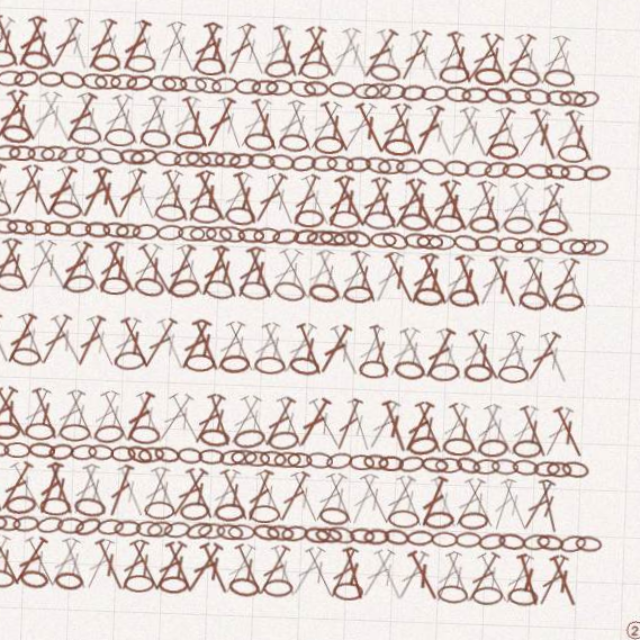chain: (497, 76, 527, 97), (295, 274, 325, 295), (264, 406, 294, 427), (125, 489, 152, 511), (280, 77, 309, 97), (32, 209, 61, 229), (171, 275, 200, 295), (202, 275, 231, 295), (233, 275, 262, 295), (140, 407, 169, 427), (295, 407, 324, 427), (419, 407, 448, 427), (513, 275, 541, 295), (109, 275, 138, 294), (326, 275, 355, 294), (311, 341, 340, 360), (125, 473, 154, 492), (389, 226, 416, 246), (224, 490, 251, 510), (405, 341, 433, 360), (64, 473, 92, 492), (219, 473, 247, 492), (265, 539, 293, 558), (156, 342, 185, 360), (99, 160, 125, 180), (169, 424, 195, 444), (79, 539, 106, 558), (374, 78, 402, 96), (48, 144, 76, 162), (172, 144, 200, 162), (95, 210, 123, 228), (250, 210, 278, 228), (405, 210, 433, 228), (467, 210, 495, 228), (48, 276, 76, 294), (265, 276, 293, 294), (544, 276, 572, 294), (64, 342, 92, 360), (436, 342, 464, 360), (234, 408, 262, 426), (482, 408, 510, 426), (343, 474, 371, 492), (436, 474, 464, 492), (48, 540, 76, 558), (369, 94, 395, 113), (163, 160, 189, 179), (372, 160, 398, 179), (421, 160, 447, 179), (357, 226, 383, 245), (347, 424, 373, 443), (92, 490, 118, 509), (351, 490, 377, 509), (557, 490, 583, 509), (64, 78, 91, 96), (110, 540, 137, 558), (529, 78, 557, 95), (110, 144, 138, 161), (188, 210, 216, 227), (219, 210, 247, 227), (374, 210, 402, 227), (420, 276, 448, 293), (172, 408, 200, 425), (250, 474, 278, 491), (467, 474, 495, 491), (513, 540, 541, 557), (57, 94, 82, 113), (98, 94, 123, 113), (478, 160, 503, 179), (462, 424, 487, 443), (157, 95, 183, 113), (218, 95, 244, 113), (302, 95, 328, 113), (476, 95, 502, 113), (134, 161, 160, 179), (202, 161, 228, 179), (292, 227, 318, 245), (453, 227, 479, 245), (252, 425, 278, 443), (411, 425, 437, 443), (205, 491, 231, 509), (485, 491, 511, 509), (436, 78, 463, 95), (265, 144, 292, 161), (296, 144, 323, 161), (498, 210, 525, 227), (250, 342, 277, 359), (467, 342, 494, 359), (513, 408, 540, 425), (296, 540, 323, 557), (451, 540, 478, 557), (482, 540, 509, 557), (555, 95, 580, 113), (251, 161, 276, 179), (306, 161, 331, 179), (100, 425, 125, 443), (190, 491, 215, 509), (203, 145, 231, 161), (281, 343, 309, 359), (79, 409, 107, 425), (110, 409, 138, 425), (451, 409, 479, 425), (95, 475, 123, 491), (281, 475, 309, 491), (405, 475, 433, 491), (233, 95, 259, 112), (461, 161, 487, 178), (452, 276, 478, 293), (284, 491, 310, 508), (33, 79, 60, 95), (157, 79, 184, 95), (219, 79, 246, 95), (312, 79, 339, 95), (467, 79, 494, 95), (141, 145, 168, 161), (327, 145, 354, 161), (389, 145, 416, 161), (482, 145, 509, 161), (544, 145, 571, 161), (312, 211, 339, 227), (343, 211, 370, 227), (436, 211, 463, 227), (529, 211, 556, 227), (141, 277, 168, 293), (358, 277, 385, 293), (219, 343, 246, 359), (374, 343, 401, 359), (498, 343, 525, 359), (48, 409, 75, 425), (188, 475, 215, 491), (172, 541, 199, 557), (203, 541, 230, 557), (358, 541, 385, 557), (512, 95, 537, 112), (84, 161, 109, 178), (400, 161, 425, 178), (567, 161, 592, 178), (245, 227, 270, 244), (346, 227, 371, 244), (557, 227, 582, 244), (568, 227, 593, 244), (194, 425, 219, 442), (557, 425, 582, 442), (71, 491, 96, 508), (146, 491, 171, 508), (310, 491, 335, 508), (503, 491, 528, 508), (525, 491, 550, 508), (537, 491, 562, 508), (127, 79, 153, 95), (311, 227, 335, 244), (401, 491, 425, 508), (42, 96, 67, 112), (269, 96, 294, 112), (420, 96, 445, 112), (441, 96, 466, 112), (456, 96, 481, 112), (543, 96, 568, 112), (42, 162, 67, 178), (115, 162, 140, 178), (384, 162, 409, 178), (56, 228, 81, 244), (168, 228, 193, 244), (190, 228, 215, 244), (219, 228, 244, 244), (233, 228, 258, 244), (323, 228, 348, 244), (334, 228, 359, 244), (508, 228, 533, 244), (42, 426, 67, 442), (120, 426, 145, 442), (180, 426, 205, 442), (301, 426, 326, 442), (432, 426, 457, 442), (478, 426, 503, 442), (532, 426, 557, 442), (161, 492, 186, 508), (236, 492, 261, 508), (252, 492, 277, 508), (340, 492, 365, 508), (118, 96, 142, 112), (402, 96, 426, 112), (531, 96, 555, 112), (154, 162, 178, 178), (213, 162, 237, 178), (287, 162, 311, 178), (153, 228, 177, 244), (330, 492, 354, 508), (282, 96, 307, 111), (383, 96, 408, 111), (527, 228, 552, 243), (288, 426, 313, 441), (513, 426, 538, 441), (42, 492, 67, 507), (297, 492, 322, 507), (144, 96, 168, 111), (179, 96, 203, 111), (206, 96, 230, 111), (338, 96, 362, 111), (495, 96, 519, 111), (239, 162, 263, 177), (269, 162, 293, 177), (325, 162, 349, 177), (339, 162, 363, 177), (443, 162, 467, 177), (43, 228, 67, 243), (142, 228, 166, 243), (276, 228, 300, 243), (410, 228, 434, 243), (473, 228, 497, 243), (548, 228, 572, 243), (83, 426, 107, 441), (215, 426, 239, 441), (263, 426, 287, 441), (330, 426, 354, 441), (495, 426, 519, 441), (55, 492, 79, 507), (111, 492, 135, 507), (383, 492, 407, 507), (422, 492, 446, 507), (465, 492, 489, 507), (572, 492, 596, 507), (80, 96, 103, 111), (190, 96, 213, 111), (255, 96, 278, 111), (316, 96, 339, 111), (226, 162, 249, 177), (356, 162, 379, 177), (533, 162, 556, 177), (109, 228, 132, 243), (126, 228, 149, 243), (136, 426, 159, 441), (381, 426, 404, 441), (371, 492, 394, 507), (130, 97, 154, 111), (360, 97, 384, 111), (56, 163, 80, 177), (73, 163, 97, 177), (186, 163, 210, 177), (516, 163, 540, 177), (547, 163, 571, 177), (90, 229, 114, 243), (209, 229, 233, 243), (262, 229, 286, 243), (380, 229, 404, 243), (421, 229, 445, 243), (432, 229, 456, 243), (493, 229, 517, 243), (61, 427, 85, 441), (234, 427, 258, 441), (445, 427, 469, 441), (181, 493, 205, 507), (263, 493, 287, 507), (444, 493, 468, 507), (495, 163, 518, 177), (73, 229, 96, 243), (156, 427, 179, 441), (275, 427, 298, 441), (313, 427, 336, 441), (368, 427, 391, 441), (394, 427, 417, 441), (544, 427, 567, 441)
double: (171, 244, 210, 293), (208, 442, 247, 491), (22, 47, 61, 95), (456, 47, 495, 95), (488, 178, 526, 227), (529, 178, 567, 227), (79, 244, 117, 293), (286, 244, 324, 293), (95, 310, 133, 359), (48, 376, 86, 425), (193, 376, 231, 425), (327, 376, 365, 425), (64, 442, 102, 491), (69, 508, 107, 557), (224, 508, 262, 557), (364, 46, 401, 95), (79, 112, 116, 161), (255, 112, 292, 161), (317, 112, 354, 161), (348, 112, 385, 161), (503, 112, 540, 161), (219, 178, 256, 227), (343, 178, 380, 227), (457, 178, 494, 227), (141, 244, 178, 293), (296, 244, 333, 293), (178, 310, 215, 359), (467, 310, 504, 359), (519, 310, 556, 359), (203, 376, 240, 425), (23, 442, 60, 491), (79, 508, 116, 557), (317, 508, 354, 557), (379, 508, 416, 557), (420, 508, 457, 557), (482, 508, 519, 557), (65, 178, 101, 228), (96, 178, 132, 228), (313, 178, 349, 228), (101, 244, 137, 294), (163, 244, 199, 294), (256, 508, 292, 558), (328, 508, 364, 558), (313, 46, 349, 95), (499, 46, 535, 95), (39, 112, 75, 161), (49, 112, 85, 161), (132, 112, 168, 161), (328, 112, 364, 161), (359, 112, 395, 161), (380, 112, 416, 161), (179, 178, 215, 227), (241, 178, 277, 227), (272, 178, 308, 227), (406, 178, 442, 227), (499, 178, 535, 227), (111, 244, 147, 293), (390, 244, 426, 293), (514, 244, 550, 293), (303, 310, 339, 359), (334, 310, 370, 359), (39, 376, 75, 425), (256, 376, 292, 425), (266, 376, 302, 425), (318, 376, 354, 425), (380, 376, 416, 425), (452, 376, 488, 425), (483, 376, 519, 425), (545, 376, 581, 425), (55, 442, 91, 491), (334, 442, 370, 491), (375, 442, 411, 491), (396, 442, 432, 491), (458, 442, 494, 491), (468, 442, 504, 491), (520, 442, 556, 491), (49, 508, 85, 557), (173, 508, 209, 557), (194, 508, 230, 557), (473, 508, 509, 557), (86, 46, 121, 96), (189, 46, 224, 96), (210, 46, 245, 96), (406, 46, 441, 96), (489, 46, 524, 96), (520, 46, 555, 96), (70, 112, 105, 162), (101, 112, 136, 162), (194, 112, 229, 162), (452, 112, 487, 162), (473, 112, 508, 162), (535, 112, 570, 162), (55, 178, 90, 228), (86, 178, 121, 228), (365, 178, 400, 228), (396, 178, 431, 228), (437, 178, 472, 228), (39, 244, 74, 294), (70, 244, 105, 294), (349, 244, 384, 294), (442, 244, 477, 294), (483, 244, 518, 294), (545, 244, 580, 294), (34, 310, 69, 360), (86, 310, 121, 360), (127, 310, 162, 360), (158, 310, 193, 360), (210, 310, 245, 360), (241, 310, 276, 360), (251, 310, 286, 360), (344, 310, 379, 360), (396, 310, 431, 360), (406, 310, 441, 360), (427, 310, 462, 360), (489, 310, 524, 360), (101, 376, 136, 426), (142, 376, 177, 426), (173, 376, 208, 426), (225, 376, 260, 426), (287, 376, 322, 426), (189, 442, 224, 492), (220, 442, 255, 492), (251, 442, 286, 492), (282, 442, 317, 492), (303, 442, 338, 492), (313, 442, 348, 492), (101, 508, 136, 558), (142, 508, 177, 558), (204, 508, 239, 558), (235, 508, 270, 558), (266, 508, 301, 558), (287, 508, 322, 558), (390, 508, 425, 558), (411, 508, 446, 558), (66, 46, 100, 96), (118, 46, 152, 96), (252, 46, 286, 96), (273, 46, 307, 96), (304, 46, 338, 96), (335, 46, 369, 96), (345, 46, 379, 96), (397, 46, 431, 96), (469, 46, 503, 96), (112, 112, 146, 162), (143, 112, 177, 162), (164, 112, 198, 162), (205, 112, 239, 162), (226, 112, 260, 162), (288, 112, 322, 162), (391, 112, 425, 162), (422, 112, 456, 162), (443, 112, 477, 162), (546, 112, 580, 162), (128, 178, 162, 228), (149, 178, 183, 228), (159, 178, 193, 228), (190, 178, 224, 228), (283, 178, 317, 228), (428, 178, 462, 228), (50, 244, 84, 294), (195, 244, 229, 294), (205, 244, 239, 294), (329, 244, 363, 294), (422, 244, 456, 294), (536, 244, 570, 294), (25, 310, 59, 360), (56, 310, 90, 360), (66, 310, 100, 360), (149, 310, 183, 360), (190, 310, 224, 360), (221, 310, 255, 360), (273, 310, 307, 360), (283, 310, 317, 360), (438, 310, 472, 360), (531, 310, 565, 360), (71, 376, 105, 426), (112, 376, 146, 426), (298, 376, 332, 426), (412, 376, 446, 426), (422, 376, 456, 426), (443, 376, 477, 426), (505, 376, 539, 426), (515, 376, 549, 426), (536, 376, 570, 426), (159, 442, 193, 492), (242, 442, 276, 492), (345, 442, 379, 492), (407, 442, 441, 492), (438, 442, 472, 492), (500, 442, 534, 492), (40, 508, 74, 558), (453, 508, 487, 558), (505, 508, 539, 558), (536, 508, 570, 558), (546, 508, 580, 558), (35, 46, 68, 96), (56, 46, 89, 96), (149, 46, 182, 96), (242, 46, 275, 96), (376, 46, 409, 96), (428, 46, 461, 96), (267, 112, 300, 162), (412, 112, 445, 162), (484, 112, 517, 162), (515, 112, 548, 162), (25, 178, 58, 228), (118, 178, 151, 228), (376, 178, 409, 228), (521, 178, 554, 228), (226, 244, 259, 294), (267, 244, 300, 294), (319, 244, 352, 294), (360, 244, 393, 294), (381, 244, 414, 294), (412, 244, 445, 294), (453, 244, 486, 294), (474, 244, 507, 294), (118, 310, 151, 360), (314, 310, 347, 360), (81, 376, 114, 426), (133, 376, 166, 426), (164, 376, 197, 426), (97, 442, 130, 492), (128, 442, 161, 492), (112, 508, 145, 558), (133, 508, 166, 558), (164, 508, 197, 558), (298, 508, 331, 558), (350, 508, 383, 558), (181, 46, 213, 96), (284, 46, 316, 96), (439, 46, 471, 96), (532, 46, 564, 96), (175, 112, 207, 162), (299, 112, 331, 162), (305, 178, 337, 228), (470, 178, 502, 228), (237, 244, 269, 294), (258, 244, 290, 294), (506, 244, 538, 294), (367, 310, 399, 360), (460, 310, 492, 360), (501, 310, 533, 360), (392, 376, 424, 426), (36, 442, 68, 492), (119, 442, 151, 492), (181, 442, 213, 492), (367, 442, 399, 492), (98, 46, 129, 96), (129, 46, 160, 96), (160, 46, 191, 96), (222, 46, 253, 96), (237, 112, 268, 162), (36, 178, 67, 228), (212, 178, 243, 228), (253, 178, 284, 228), (237, 376, 268, 426), (351, 376, 382, 426), (361, 376, 392, 426), (475, 376, 506, 426), (274, 442, 305, 492), (429, 442, 460, 492), (444, 508, 475, 558), (337, 178, 367, 228), (135, 244, 165, 294), (151, 442, 181, 492), (517, 508, 547, 558), (89, 442, 118, 492), (362, 508, 391, 558), (379, 310, 407, 360), (493, 442, 521, 492), (534, 442, 561, 492)
noise: (23, 52, 50, 79), (618, 564, 638, 584), (0, 181, 28, 192), (1, 491, 17, 507)
